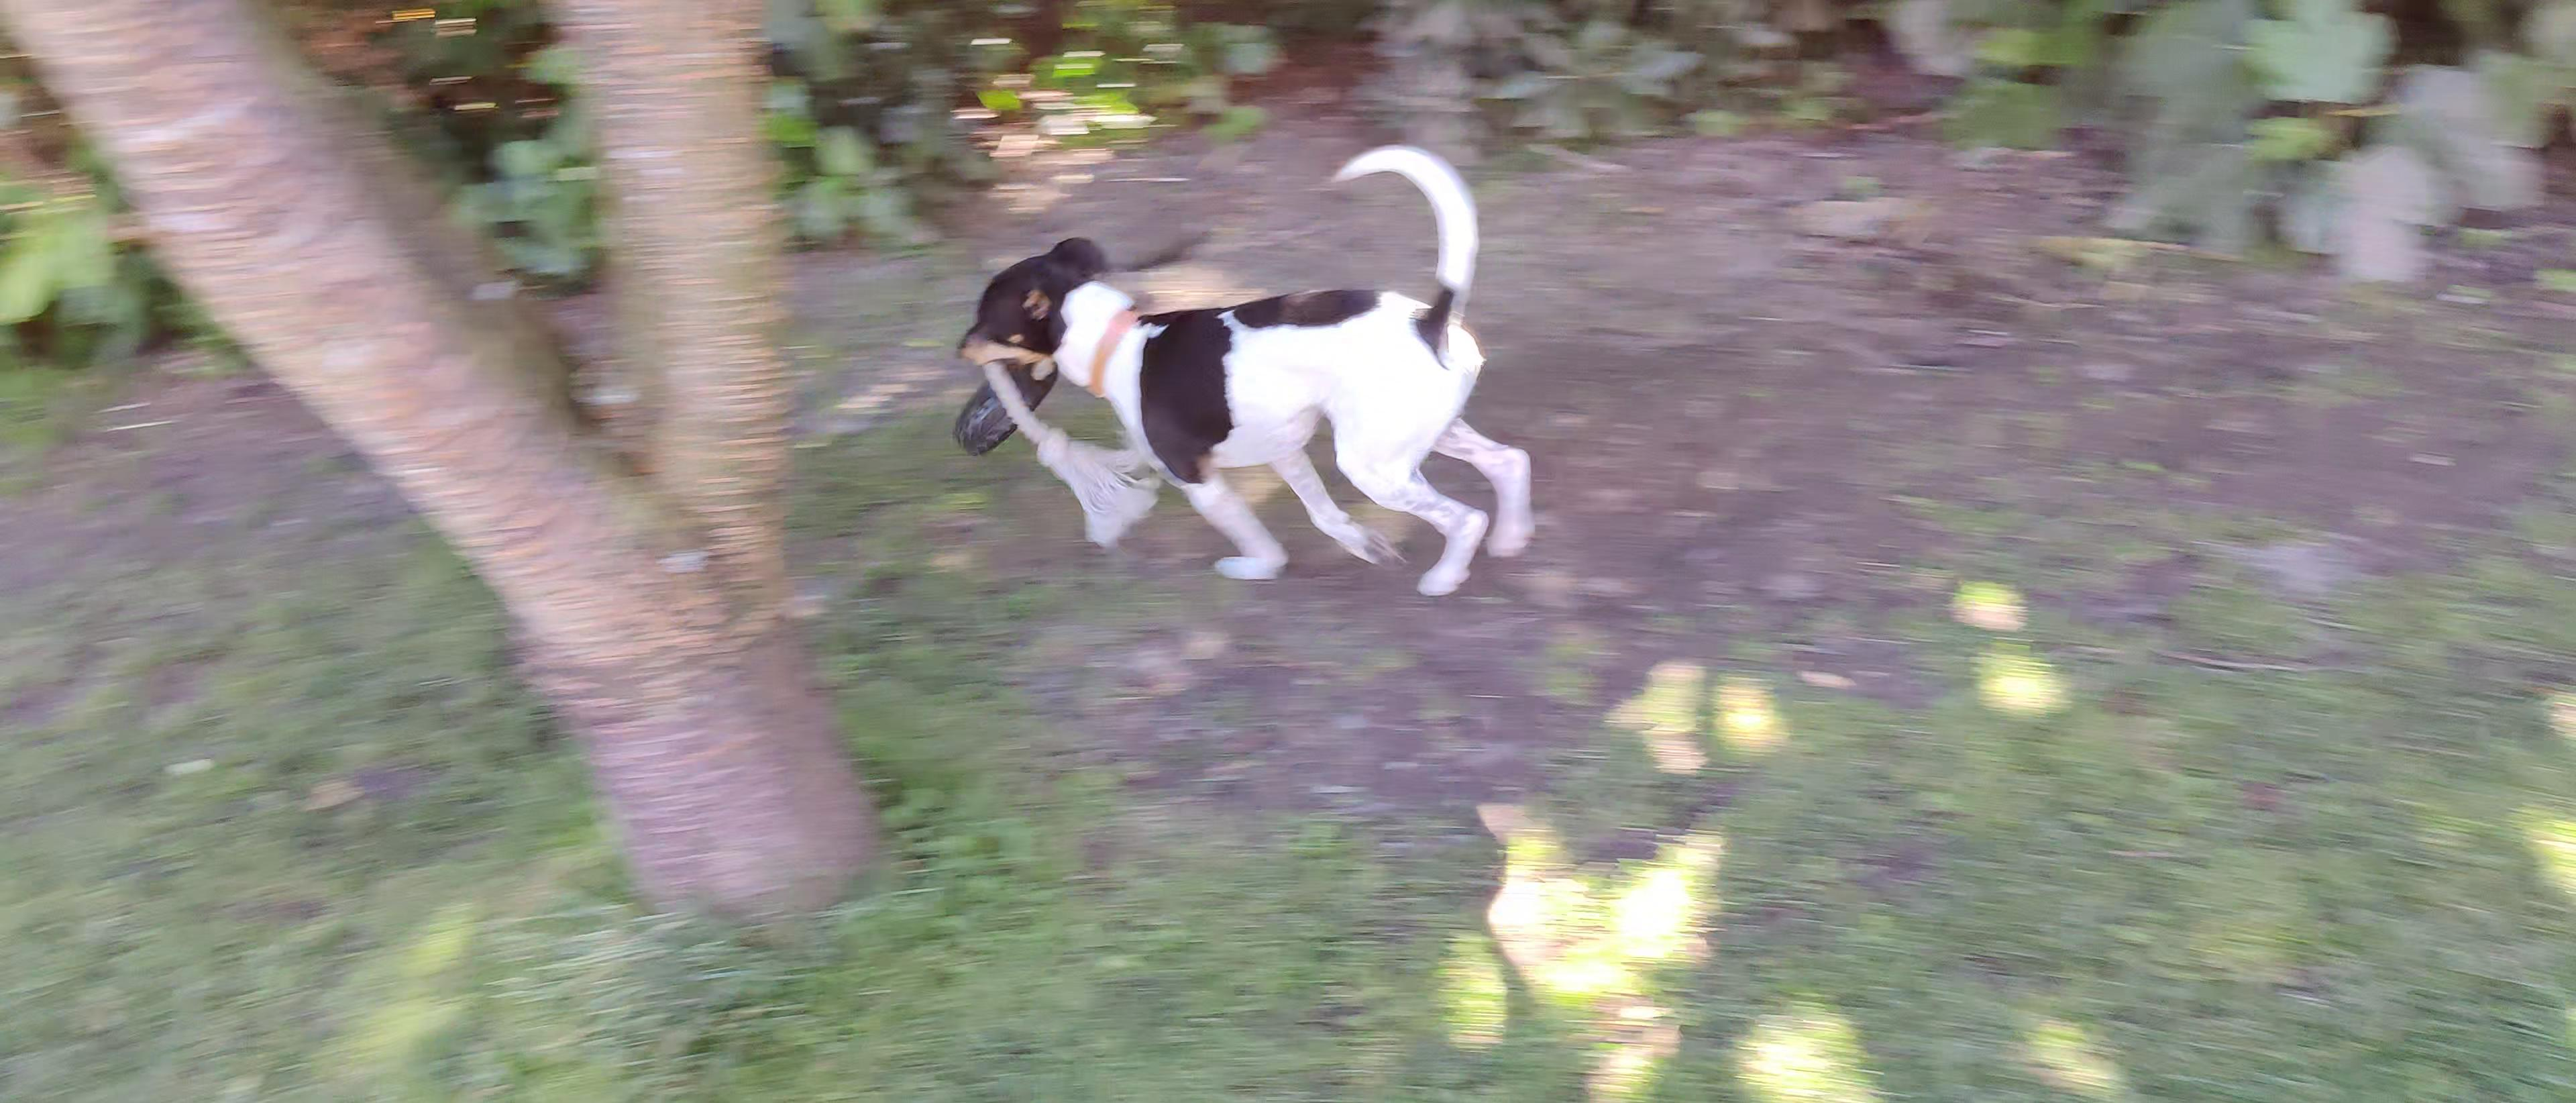Dog: (938, 105, 1549, 603)
